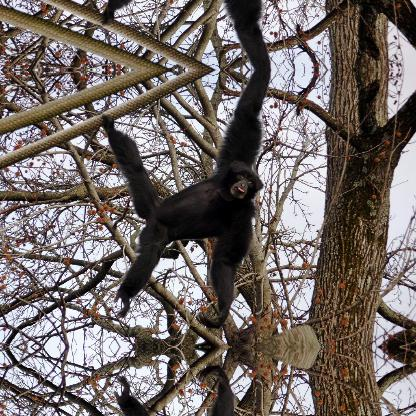Monkey: (101, 98, 273, 330), (101, 362, 274, 415)
